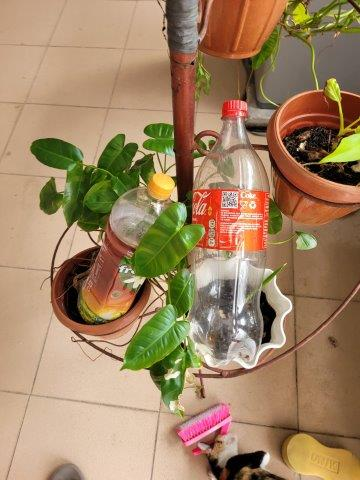botolplastik: (192, 100, 269, 360), (77, 180, 173, 330)
